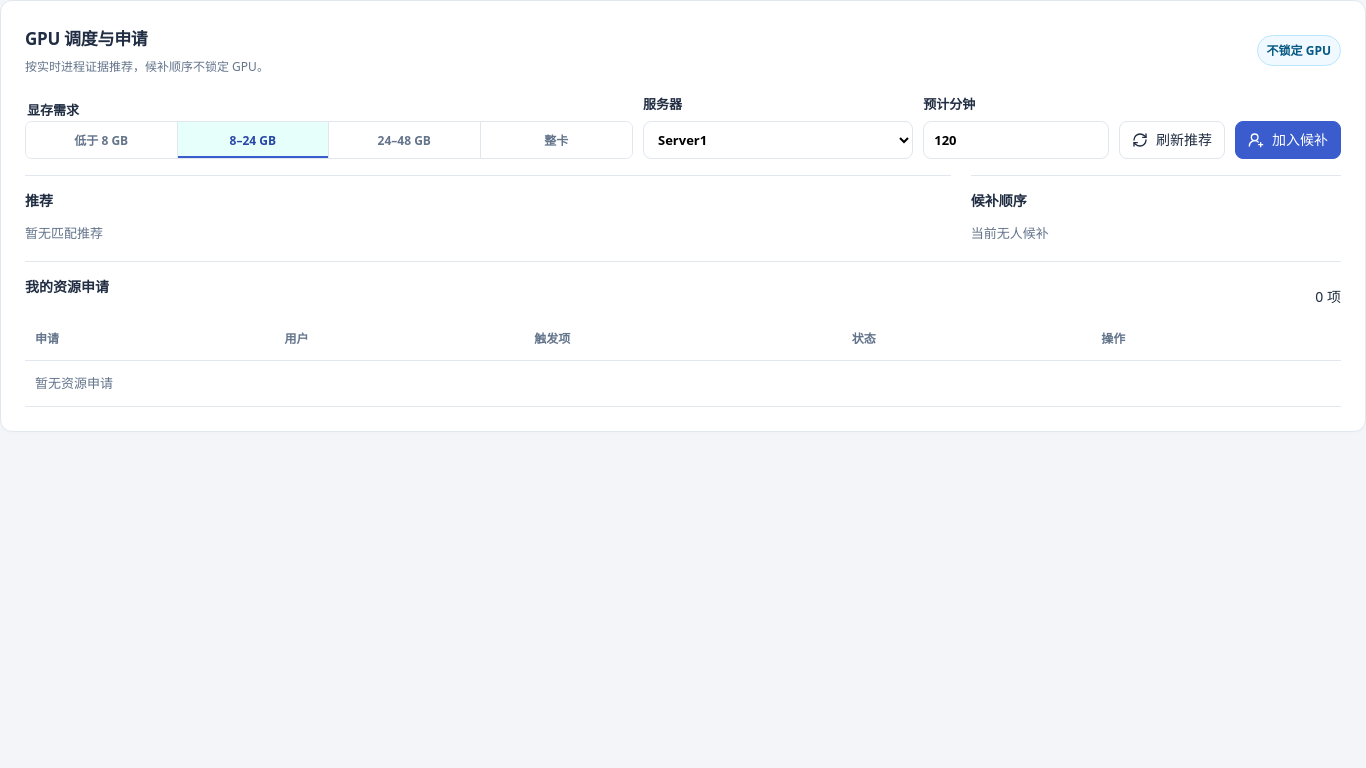
joins and withdraws from the advisory queue without reservation wording
This screenshot has width=1366, height=768.
Click the button "加入候补" at (1288, 140), box [1235, 121, 1341, 159]
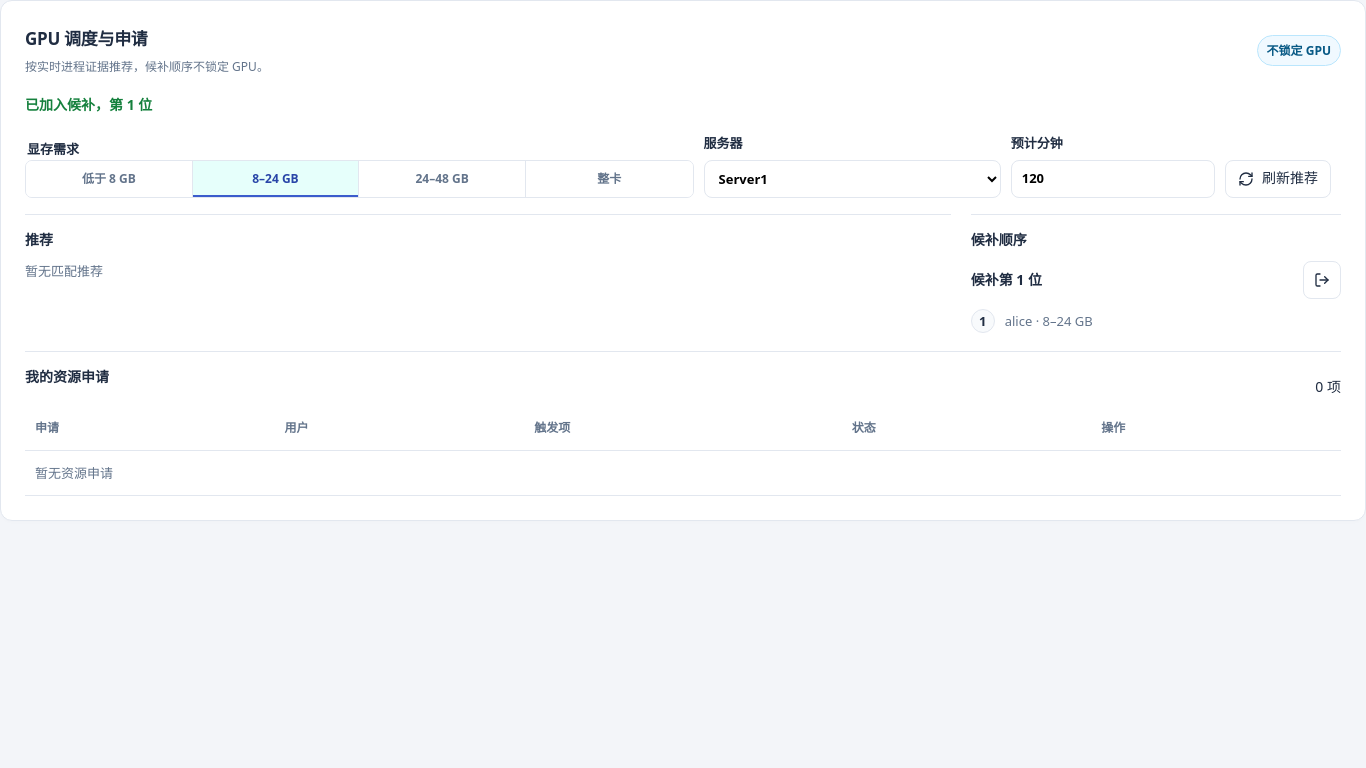
expect the text "不锁定 GPU" is shown: met, box [1257, 35, 1341, 66]
expect the text "候补第 1 位" is shown: met, box [971, 269, 1042, 291]
Click the button named "退出候补 q1" at (1322, 280), box [1303, 261, 1341, 299]
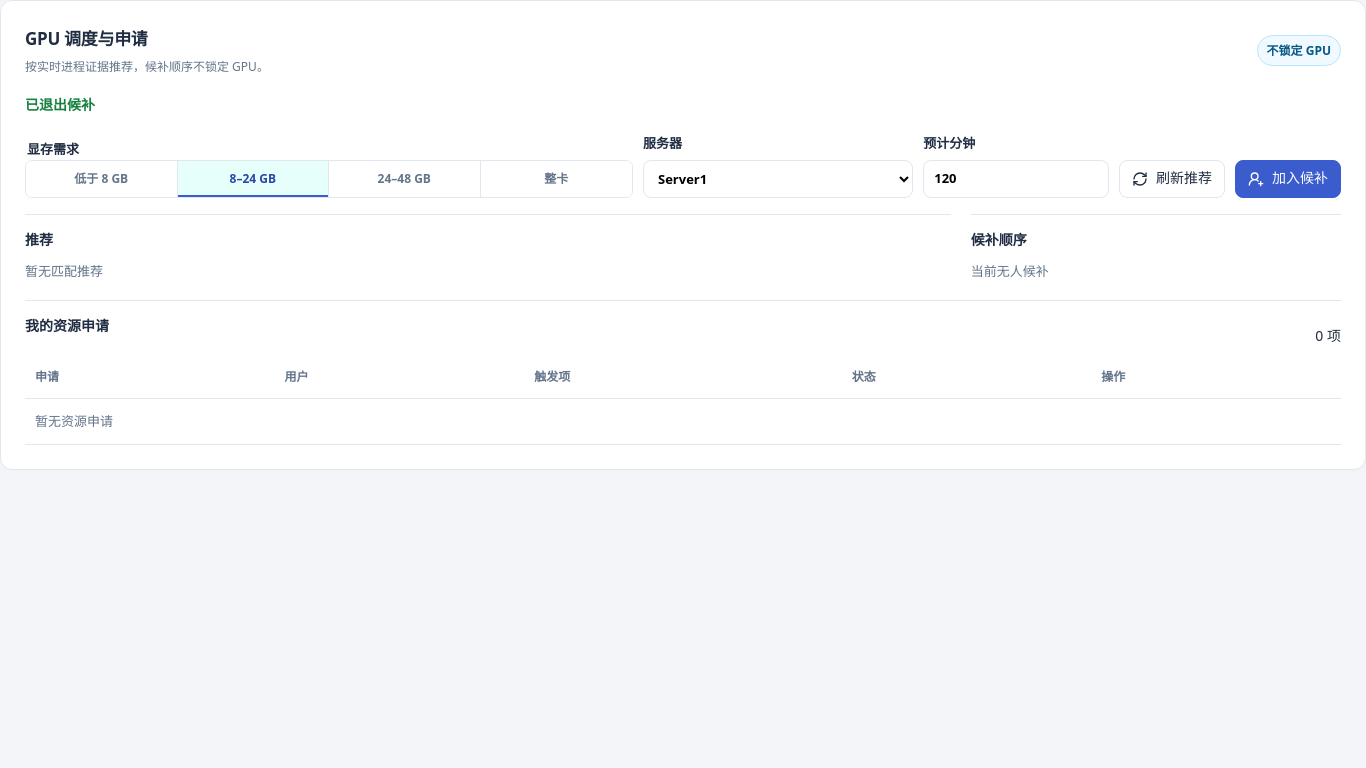
expect the text "候补第 1 位" is gone: met
